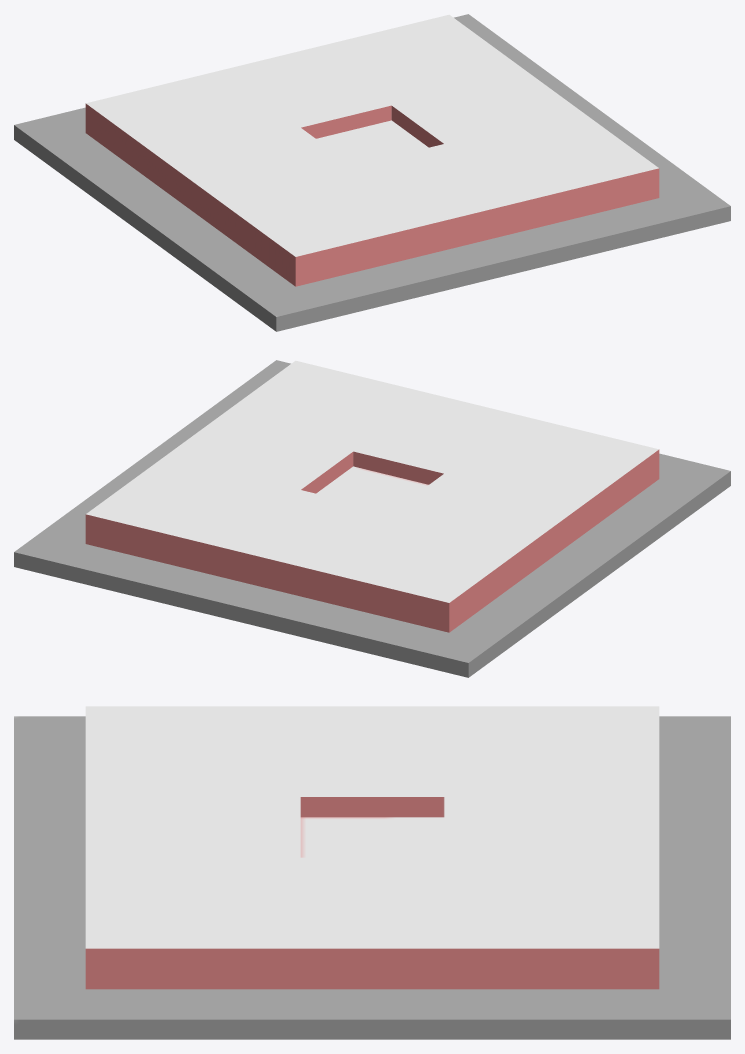
The model's file is square_switch.glb.
3 views of the same model, one above another, from view 1: azimuth 30°, elevation 25°; view 2: azimuth 150°, elevation 25°; view 3: azimuth 270°, elevation 25° (orthographic). The views are drawn at different scales.
Visible parts, largest first — view 1: Square_Switch; view 2: Square_Switch; view 3: Square_Switch.
Boxes of the visible parts, box(x1,y1,x2,y2) form: Square_Switch: box(14, 14, 730, 331); Square_Switch: box(14, 360, 730, 677); Square_Switch: box(14, 706, 730, 1039).
Size of what is drawn, in the model's own units: 1.6 by 0.15 by 1.6.
Materials: 1 (1 with a texture image).
